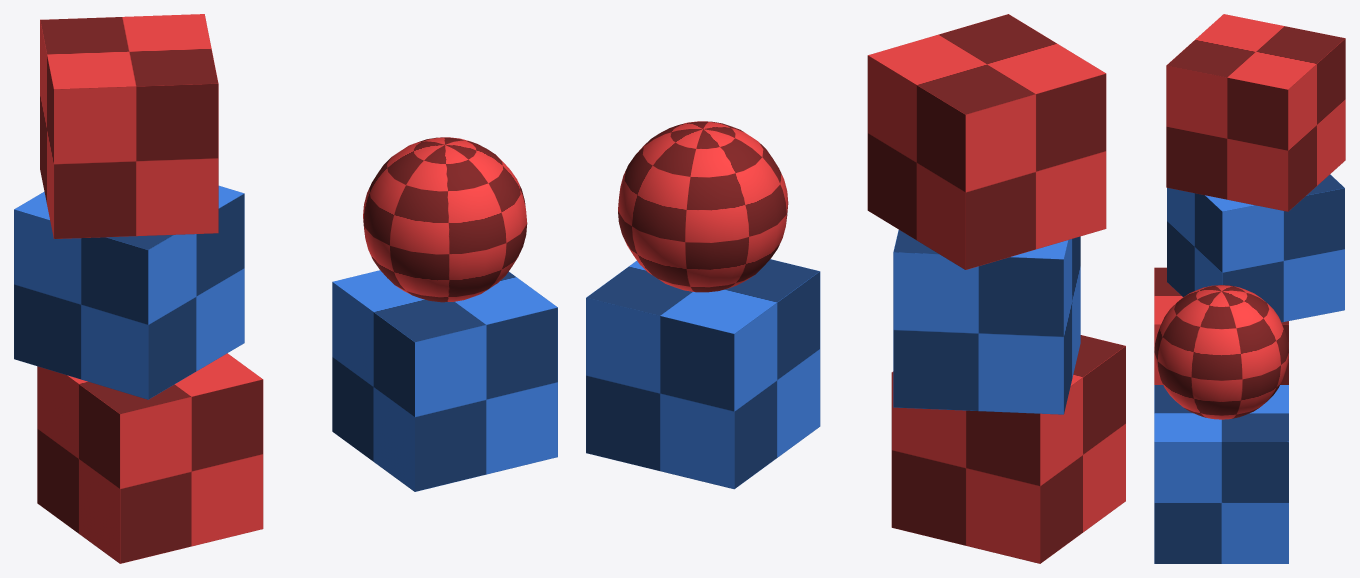
File: TestGeometry.dae
The picture shows the model from 3 angles, left to right: view 1: azimuth 30°, elevation 25°; view 2: azimuth 150°, elevation 25°; view 3: azimuth 270°, elevation 25°; orthographic projection. The views are drawn at different scales.
Visible parts, largest first — view 1: SingleCube, CubeStack3, CubeStack1, CubeStack2, SingleSphere; view 2: CubeStack3, SingleCube, CubeStack1, CubeStack2, SingleSphere; view 3: CubeStack3, SingleCube, CubeStack2, SingleSphere, CubeStack1.
Boxes of the visible parts, x1,y1,x2,y2 form: SingleCube: [332, 270, 557, 491]; CubeStack3: [40, 14, 218, 238]; CubeStack1: [37, 353, 263, 563]; CubeStack2: [14, 185, 244, 399]; SingleSphere: [363, 137, 527, 302]; CubeStack3: [867, 14, 1106, 269]; SingleCube: [586, 259, 820, 489]; CubeStack1: [891, 335, 1125, 563]; CubeStack2: [893, 230, 1080, 414]; SingleSphere: [618, 121, 788, 292]; CubeStack3: [1166, 14, 1345, 211]; SingleCube: [1154, 385, 1288, 563]; CubeStack2: [1167, 174, 1344, 322]; SingleSphere: [1154, 285, 1288, 419]; CubeStack1: [1154, 267, 1288, 384].
Size of the model in its own units: 3.23 by 3 by 1.42.
